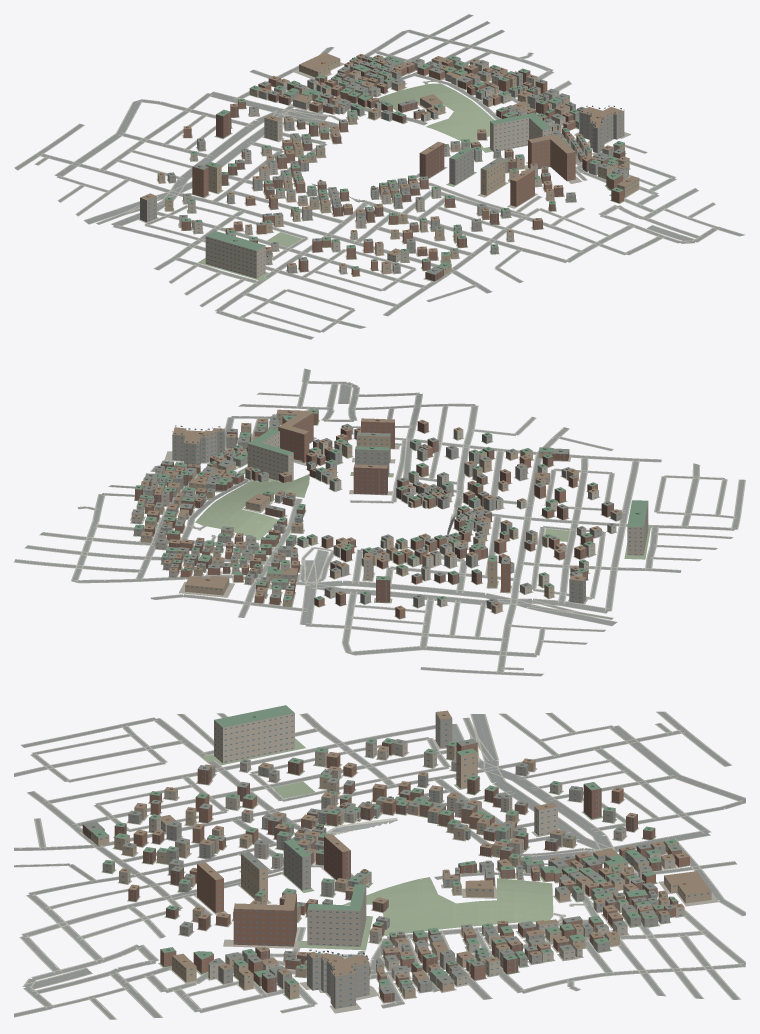
3 views of the same model, one above another, from view 1: azimuth 30°, elevation 25°; view 2: azimuth 150°, elevation 25°; view 3: azimuth 270°, elevation 25° (orthographic). The views are drawn at different scales.
Visible parts, largest first — view 1: context-osm-buildings, context-osm-roads, context-osm-sidewalks, context-building-plinths; view 2: context-osm-buildings, context-osm-roads, context-osm-sidewalks, context-building-plinths; view 3: context-osm-buildings, context-osm-roads, context-osm-sidewalks, context-building-plinths.
Boxes of the visible parts, left/top/right/bottom form: context-osm-buildings: left=140, top=52, right=639, bottom=281; context-osm-roads: left=15, top=14, right=744, bottom=339; context-osm-sidewalks: left=14, top=14, right=745, bottom=339; context-building-plinths: left=138, top=62, right=641, bottom=282; context-osm-buildings: left=131, top=409, right=648, bottom=618; context-osm-roads: left=14, top=369, right=744, bottom=675; context-osm-sidewalks: left=14, top=368, right=745, bottom=676; context-building-plinths: left=130, top=420, right=651, bottom=619; context-osm-buildings: left=82, top=705, right=711, bottom=1008; context-osm-roads: left=14, top=711, right=745, bottom=1019; context-osm-sidewalks: left=14, top=711, right=745, bottom=1019; context-building-plinths: left=79, top=738, right=718, bottom=1013.
Size of the model in its own units: 724 by 66.78 by 720.
